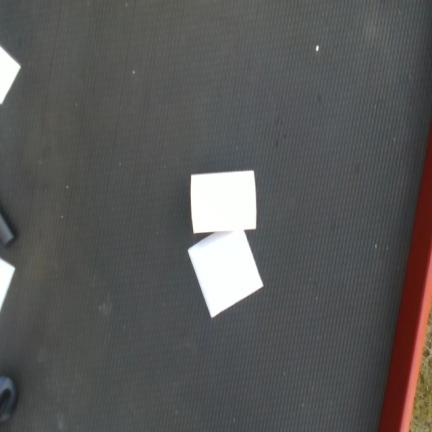Cilindro: (0, 212, 15, 247)
Esfera: (0, 376, 17, 422)
Piramide: (187, 230, 264, 319), (0, 46, 21, 105)
Prisma_hexagonal: (190, 170, 256, 234)
